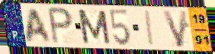5: (108, 8, 133, 48)
A: (25, 8, 53, 44)
I: (145, 10, 156, 48)
M: (76, 9, 113, 46)
P: (47, 6, 76, 46)
V: (161, 10, 189, 50)
